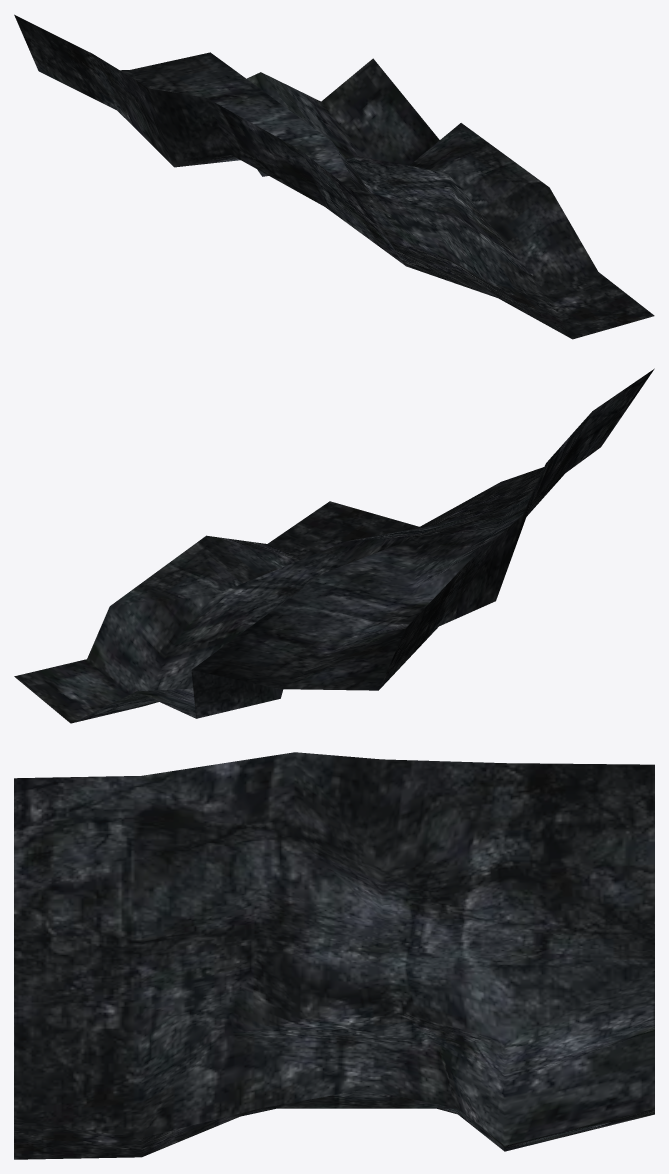
3 views of the same model, one above another, from view 1: azimuth 30°, elevation 25°; view 2: azimuth 150°, elevation 25°; view 3: azimuth 270°, elevation 25° (orthographic). The views are drawn at different scales.
Parts seen in each view (by area): view 1: model_Object32; view 2: model_Object32; view 3: model_Object32.
Part boxes in pixels (box(x1,y1,x2,y2)): model_Object32: box(14, 14, 654, 339); model_Object32: box(14, 368, 654, 723); model_Object32: box(14, 752, 654, 1159).
Bounding box in the file's own units: 3.27 × 1.93 × 4.51.
1 material, 1 textured.
